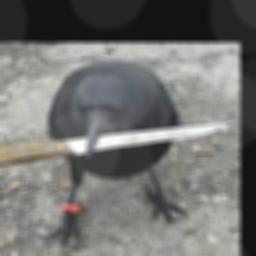Crow: (42, 60, 189, 244)
